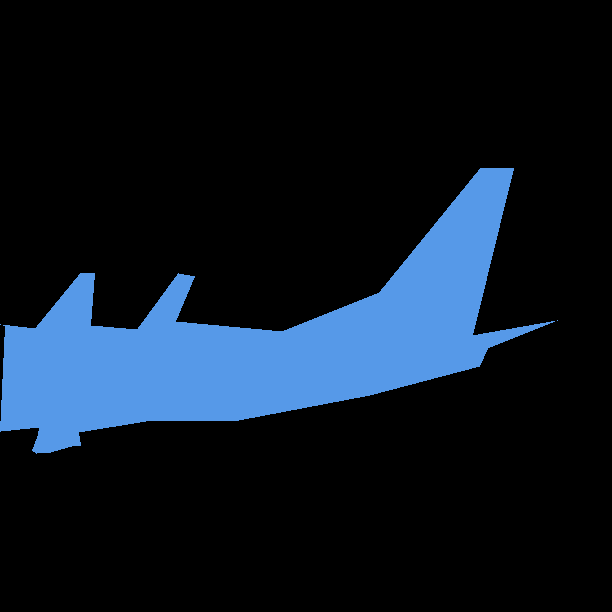Airplane: (0, 168, 557, 453)
